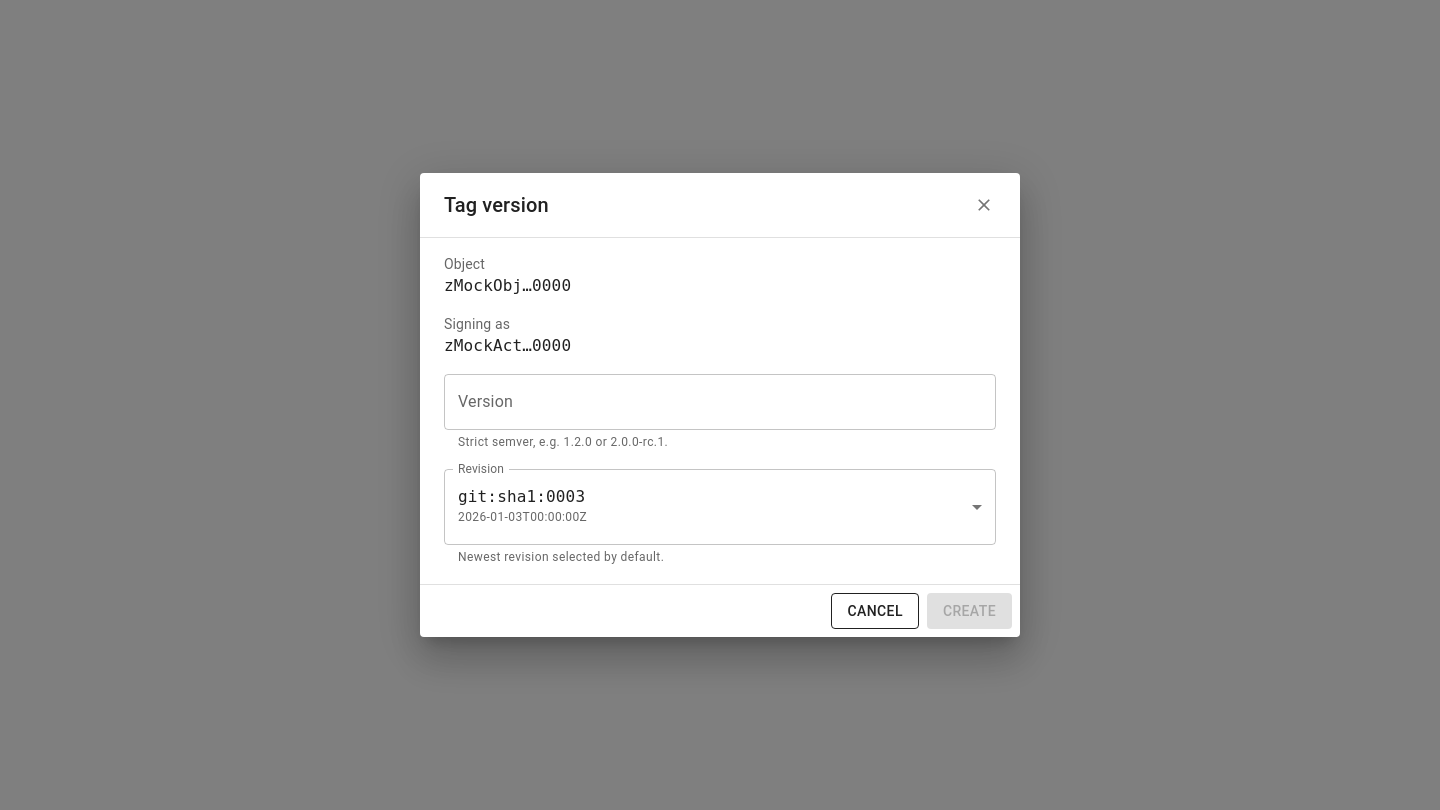
Test: <VersionTagDialog /> › disables submit until a strict semver version is supplied
Check: the button with test id "version-tag-submit" is disabled, box top-left (927, 593), bottom-right (1012, 629)
Step 1. Type "1.0" into the dropdown with test id "version-tag-input" → (705, 402), box top-left (453, 383), bottom-right (957, 421)
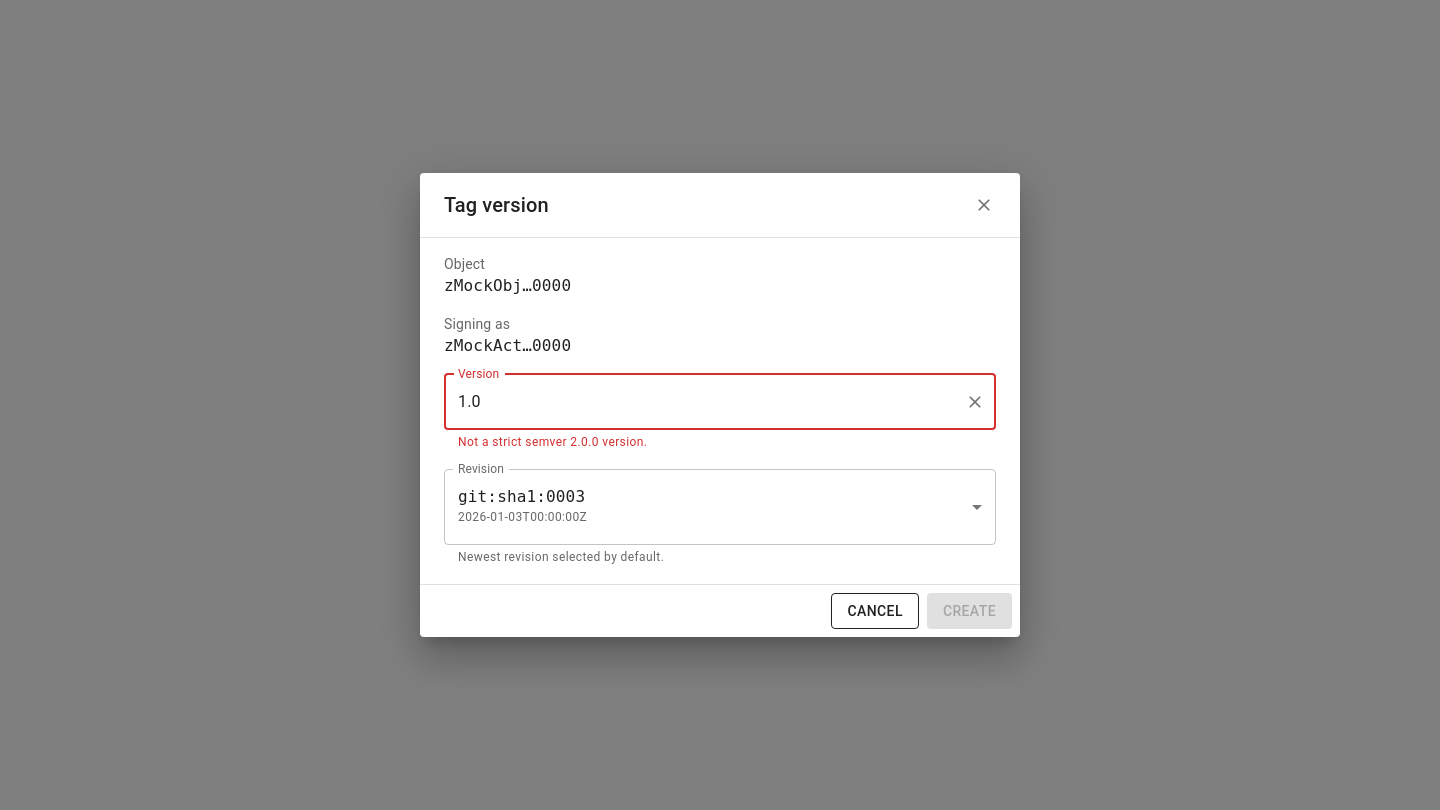
Check: the button with test id "version-tag-submit" is disabled, box top-left (927, 593), bottom-right (1012, 629)
Check: the text "Not a strict semver 2.0.0 version." is shown, box top-left (458, 435), bottom-right (647, 449)
Step 2. Type ".0" into the dropdown with test id "version-tag-input" → (705, 402), box top-left (453, 383), bottom-right (957, 421)
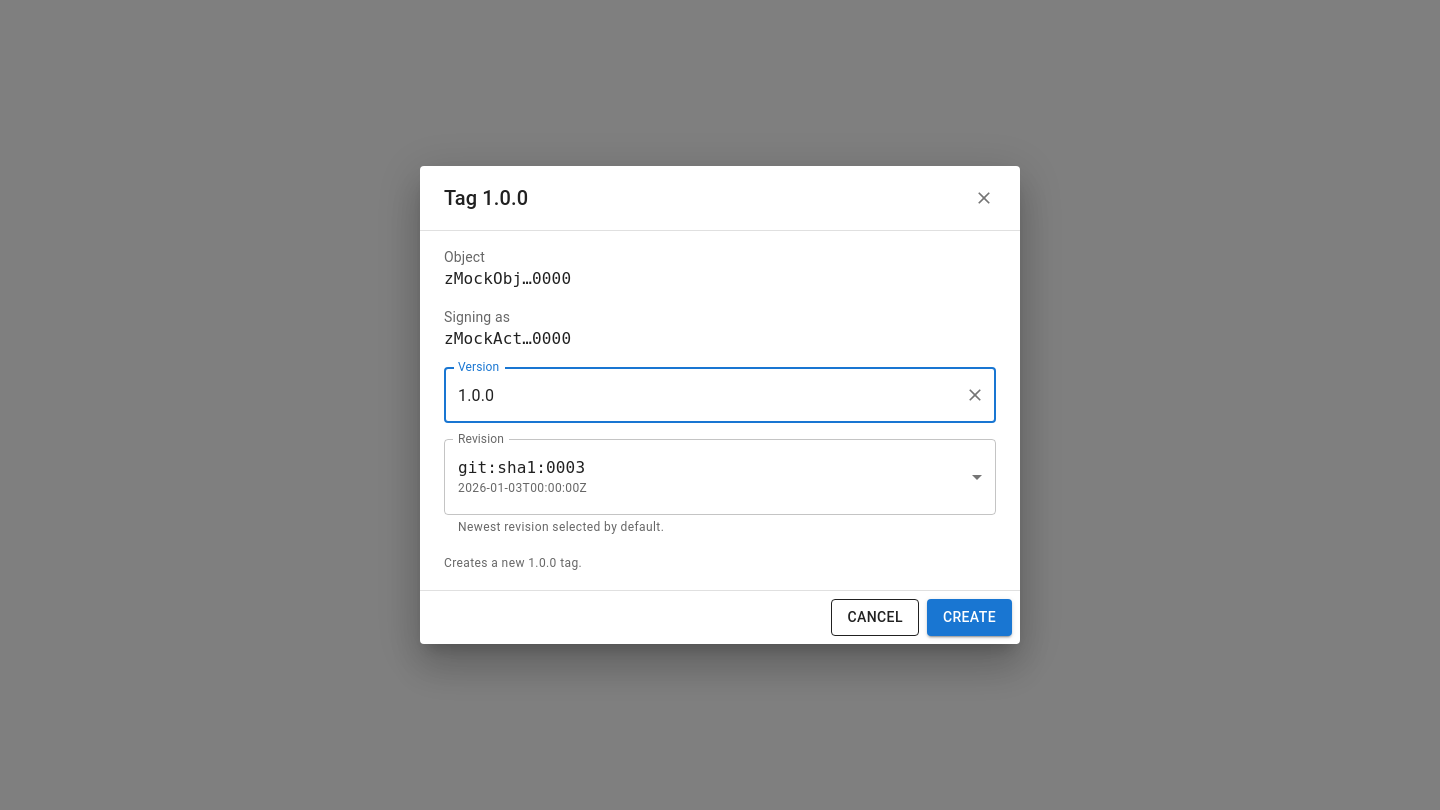
Check: the button with test id "version-tag-submit" is enabled, box top-left (927, 599), bottom-right (1012, 636)
